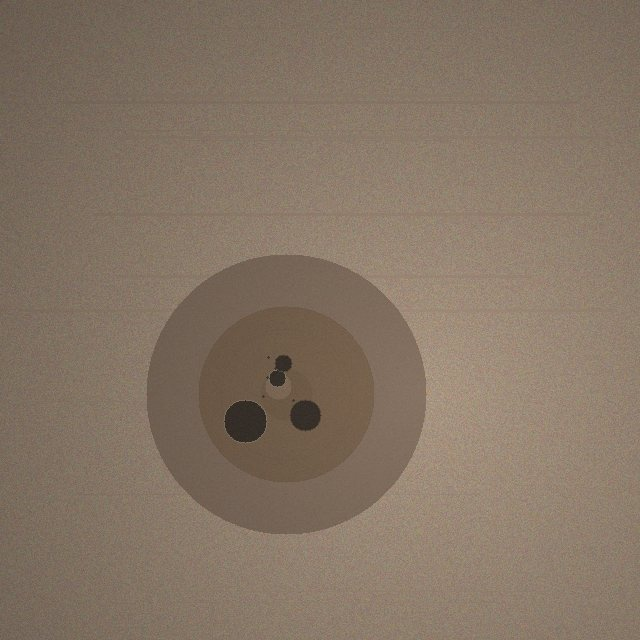shrinkage: (146, 254, 426, 534)
